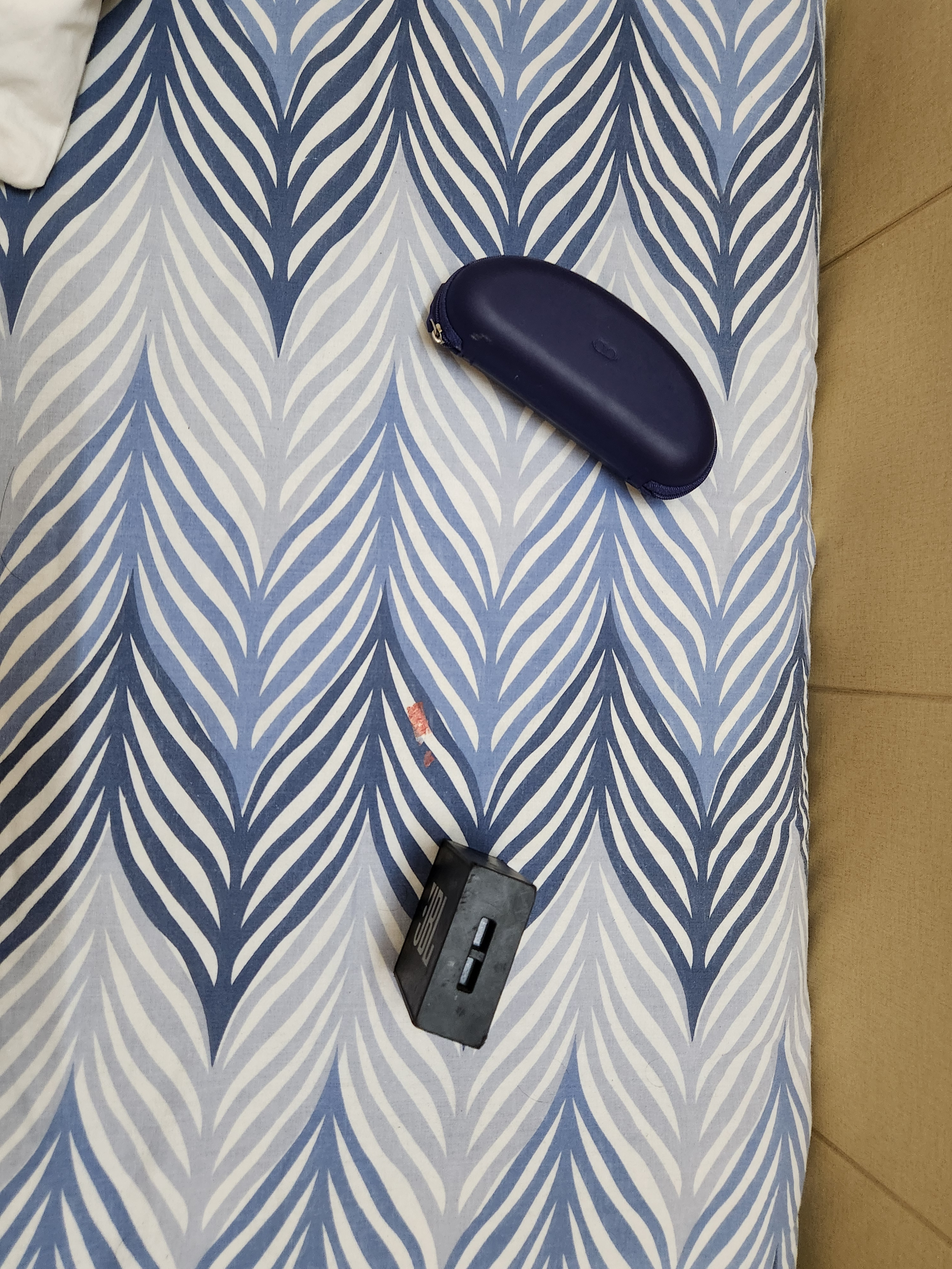case: (420, 251, 727, 506)
speaker: (387, 839, 545, 1051)
